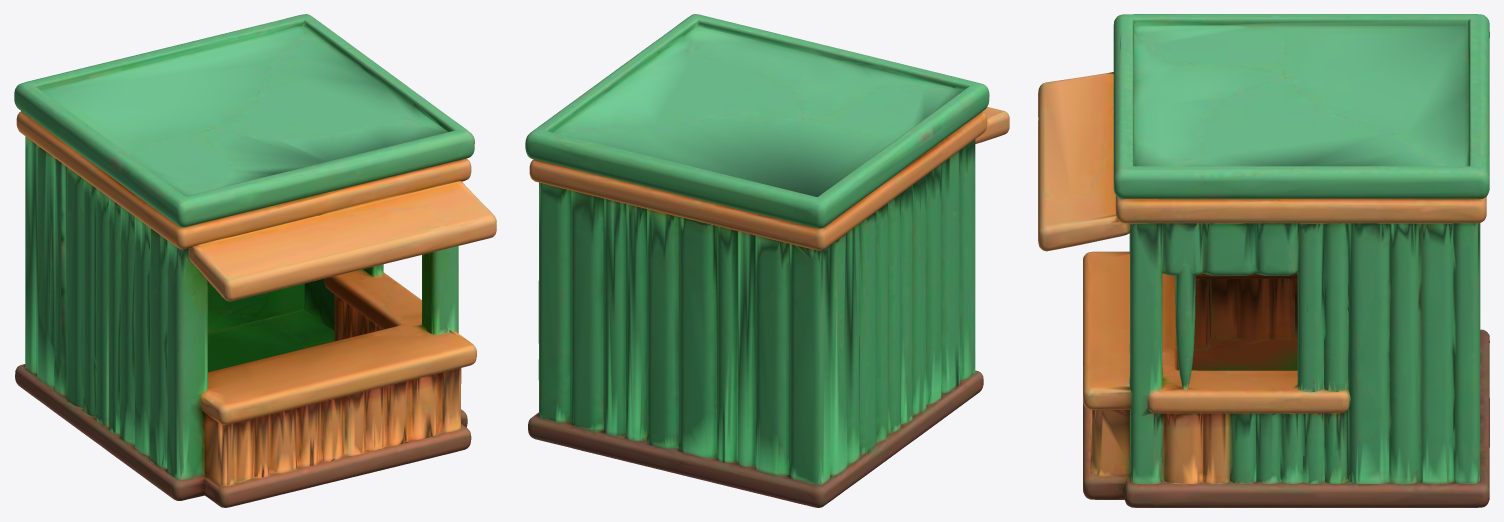
The model's file is TuckShop.glb.
3 renders of one model, left to right at view 1: azimuth 30°, elevation 25°; view 2: azimuth 150°, elevation 25°; view 3: azimuth 270°, elevation 25°, orthographic. The views are drawn at different scales.
Parts seen in each view (by area): view 1: node_0; view 2: node_0; view 3: node_0.
Part boxes in pixels (box(x1,y1,x2,y2)): node_0: box(14, 14, 496, 507); node_0: box(525, 14, 1009, 507); node_0: box(1038, 14, 1489, 507).
Bounding box in the file's own units: 0.6708 × 0.6545 × 0.7897.
1 material, 1 textured.
